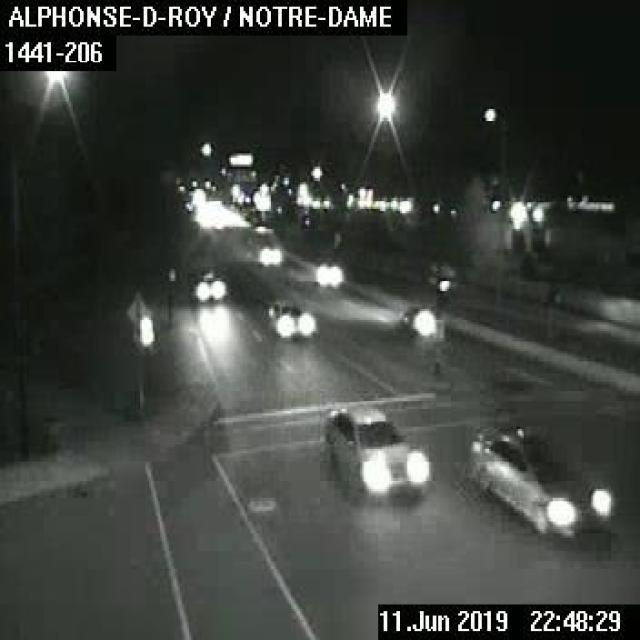vehicle: (454, 420, 614, 551), (313, 400, 425, 502), (262, 298, 316, 338), (180, 260, 231, 302), (394, 304, 436, 338), (247, 236, 282, 266), (312, 260, 343, 291)
